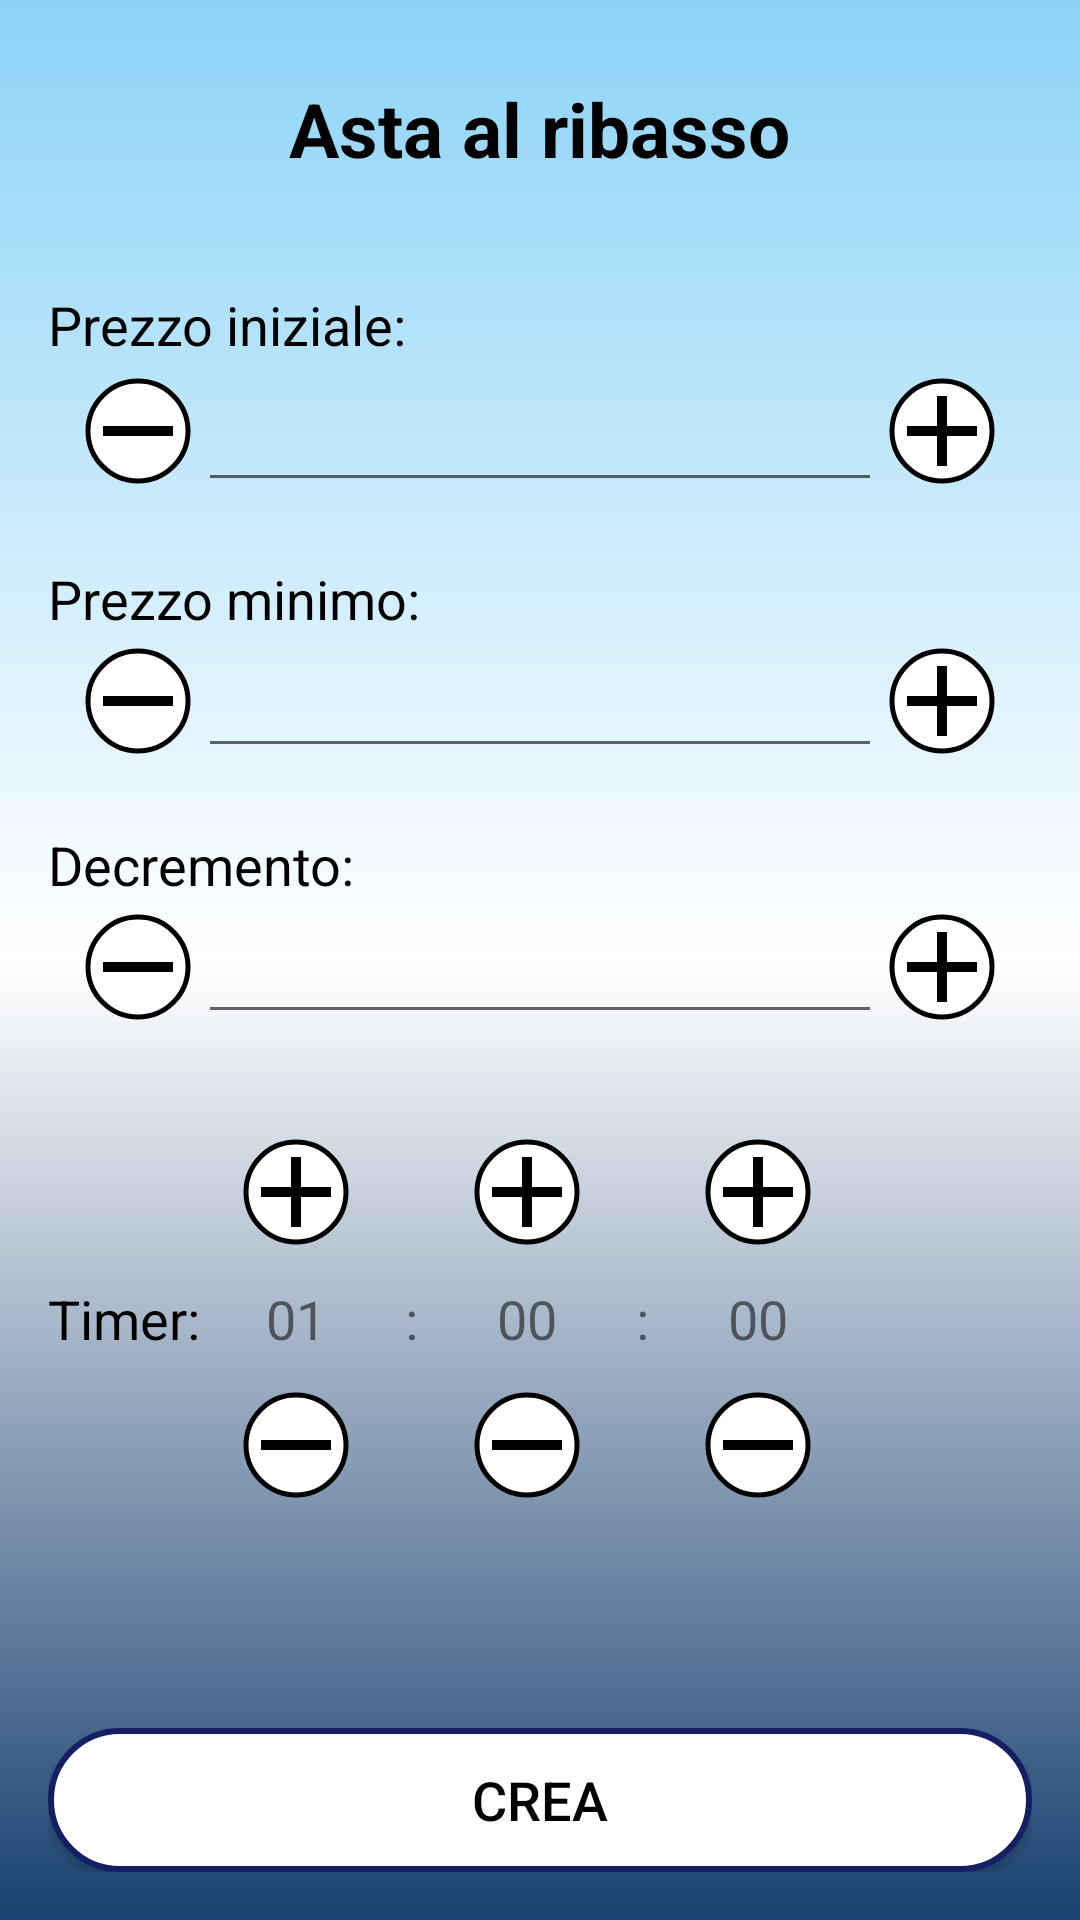

Screen size 1080 x 1920. Icon name, then its center in pixels as (x=x, y=y):
Decrement Hours: (x=296, y=1441)
Decrement Minutes: (x=527, y=1441)
Decrement Seconds: (x=758, y=1441)
Increment: (x=942, y=431), (x=942, y=701), (x=942, y=967)
Increment Hours: (x=296, y=1195)
Increment Minutes: (x=527, y=1195)
Increment Seconds: (x=758, y=1195)
